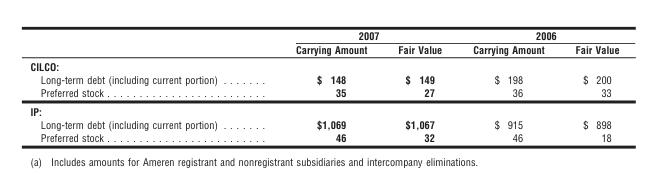table: (29, 28, 618, 143)
table column: (29, 28, 255, 143), (255, 28, 381, 143), (456, 28, 559, 143), (381, 28, 456, 143), (559, 28, 618, 143)
table column header: (29, 28, 618, 57)
table projected row header: (29, 101, 618, 117), (29, 57, 618, 72)
table row: (29, 85, 618, 101), (29, 101, 618, 117), (29, 42, 618, 57), (29, 57, 618, 72), (29, 28, 618, 42), (29, 72, 618, 85), (29, 117, 618, 130), (29, 130, 618, 143)
table spanning cell: (255, 28, 456, 42), (456, 28, 618, 42)
